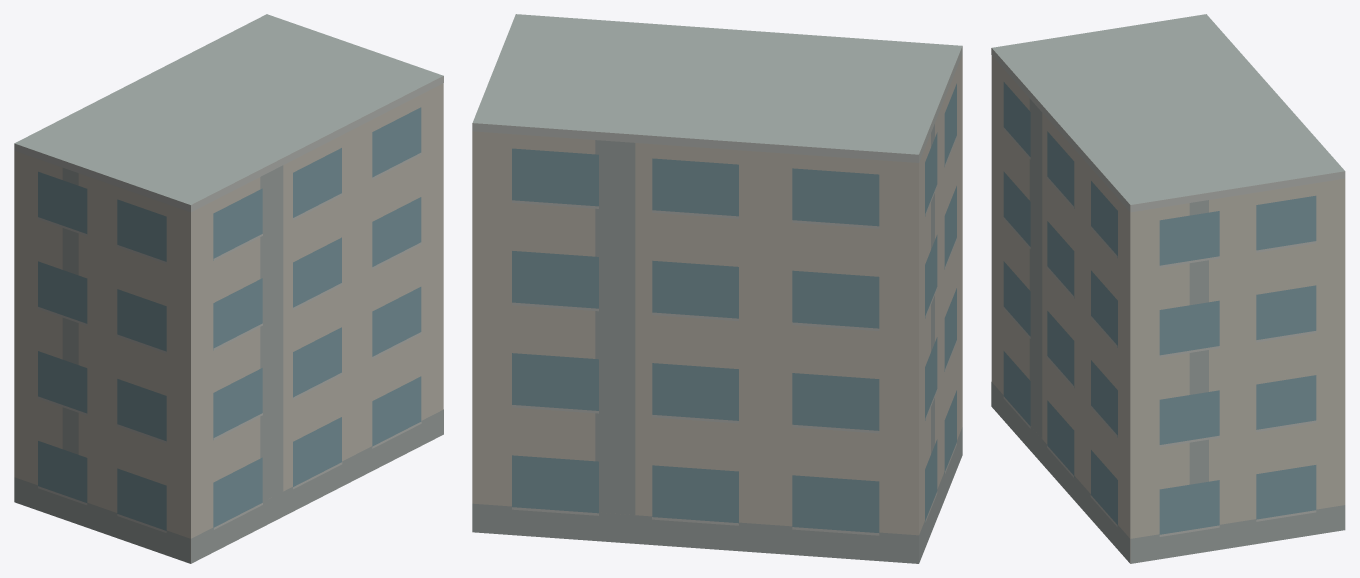
File: residential-94a55117-39db-45fa-b8ae-94e119becbd2.glb
3 renders of one model, left to right at view 1: azimuth 30°, elevation 25°; view 2: azimuth 150°, elevation 25°; view 3: azimuth 270°, elevation 25°, orthographic. The views are drawn at different scales.
Visible parts, largest first — view 1: residential-94a55117-39db-45fa-b8ae-94e119becbd2.tmp; view 2: residential-94a55117-39db-45fa-b8ae-94e119becbd2.tmp; view 3: residential-94a55117-39db-45fa-b8ae-94e119becbd2.tmp.
Part boxes in pixels (x1,y1,x2,y2): residential-94a55117-39db-45fa-b8ae-94e119becbd2.tmp: (14,14,443,563); residential-94a55117-39db-45fa-b8ae-94e119becbd2.tmp: (472,14,962,563); residential-94a55117-39db-45fa-b8ae-94e119becbd2.tmp: (991,14,1345,563).
Bounding box in the file's own units: 13.71 × 12 × 10.73.
